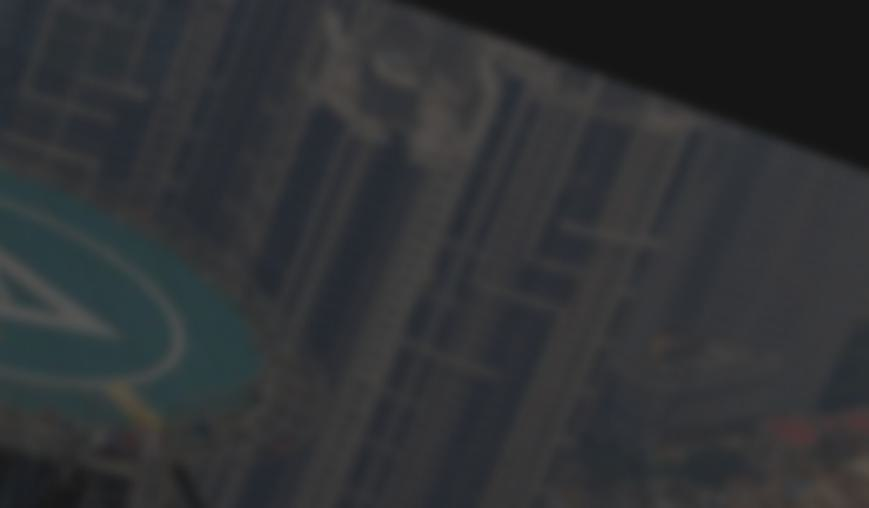Apron: (1, 186, 186, 398)
